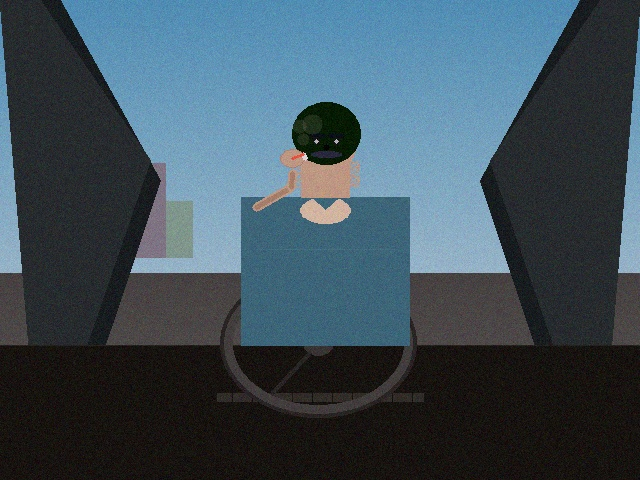smoking: (282, 143, 315, 173)
